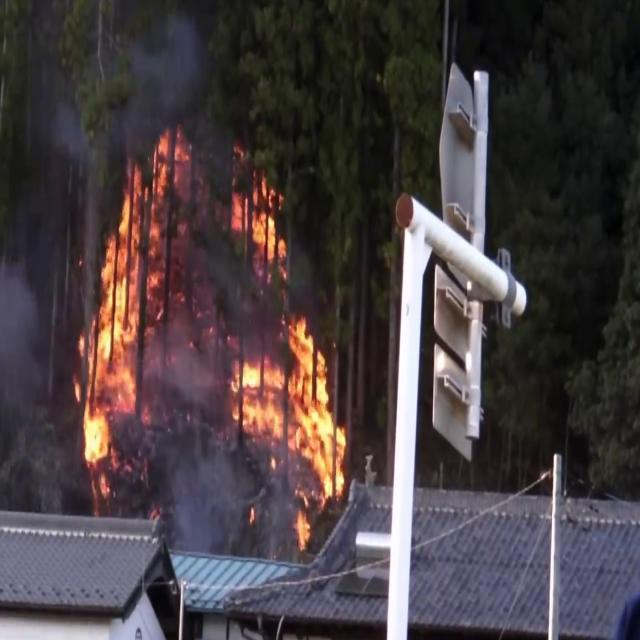Fire: (222, 170, 352, 522), (70, 128, 176, 486)
Smoke: (0, 223, 65, 516)
